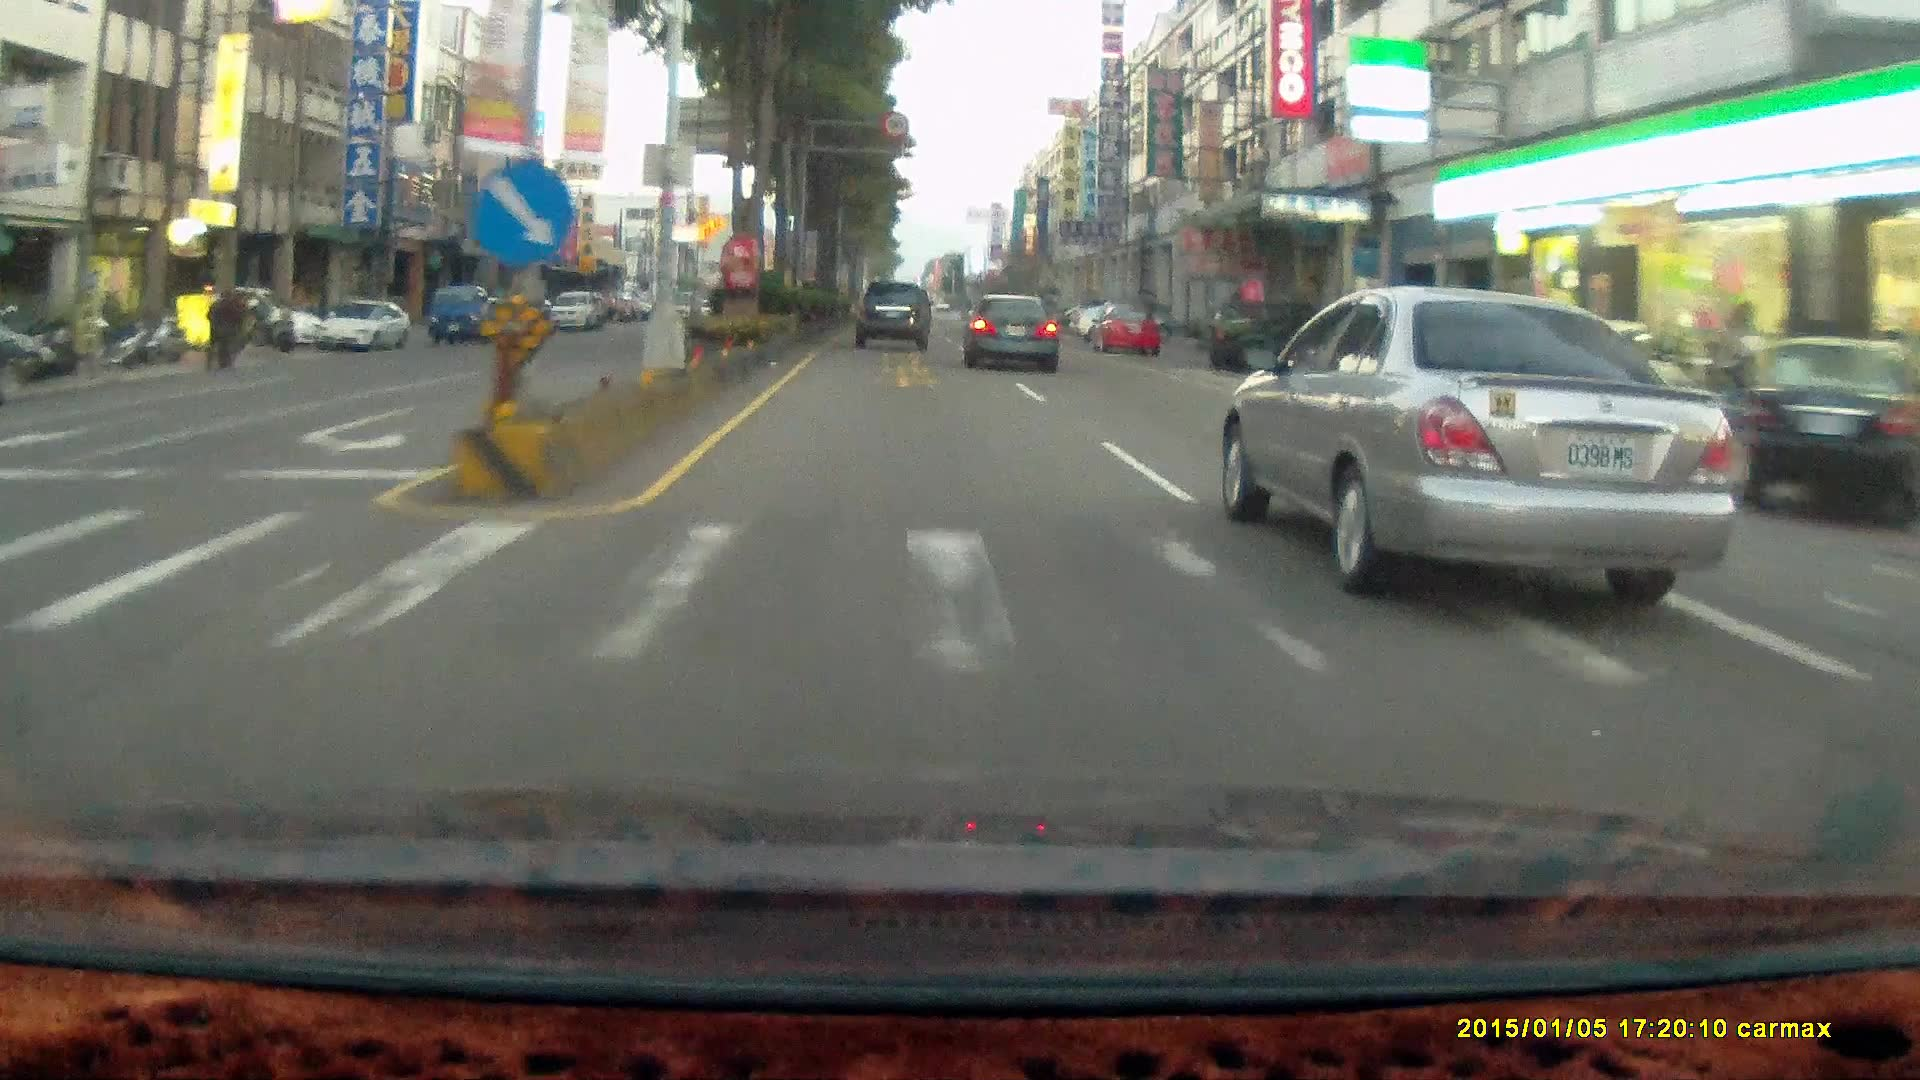pedestrian: (214, 283, 246, 369), (208, 284, 238, 368)
vehicle: (1227, 286, 1737, 598), (1735, 336, 1920, 523), (1744, 335, 1906, 534), (1339, 316, 1490, 426), (1216, 309, 1362, 381), (1205, 298, 1350, 370), (198, 284, 321, 349), (961, 289, 1060, 369), (963, 294, 1062, 374), (431, 285, 524, 353), (310, 296, 415, 354), (854, 284, 933, 357), (854, 280, 931, 350), (315, 297, 410, 348), (427, 284, 505, 345), (1090, 302, 1164, 360), (1085, 301, 1159, 355), (0, 330, 36, 397), (550, 288, 602, 332)
